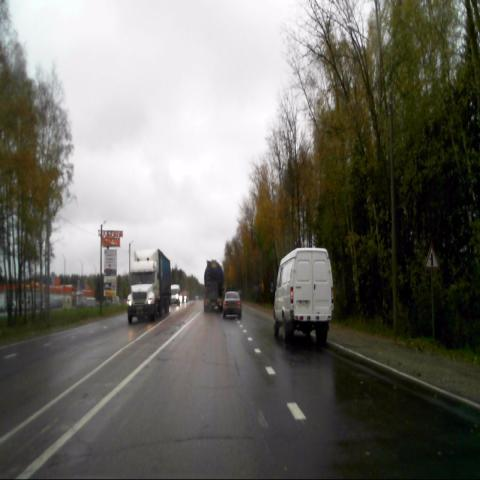2_3_3: (424, 244, 440, 272)
